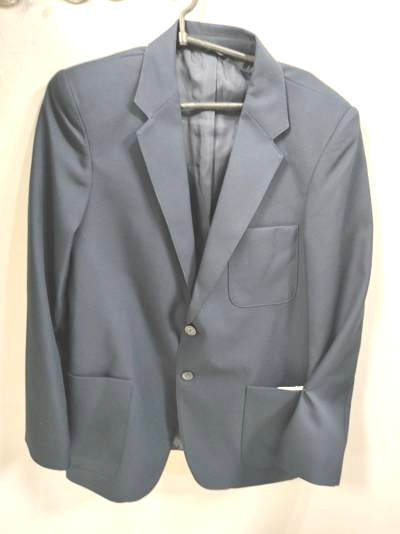Blazer: (14, 34, 391, 500)
